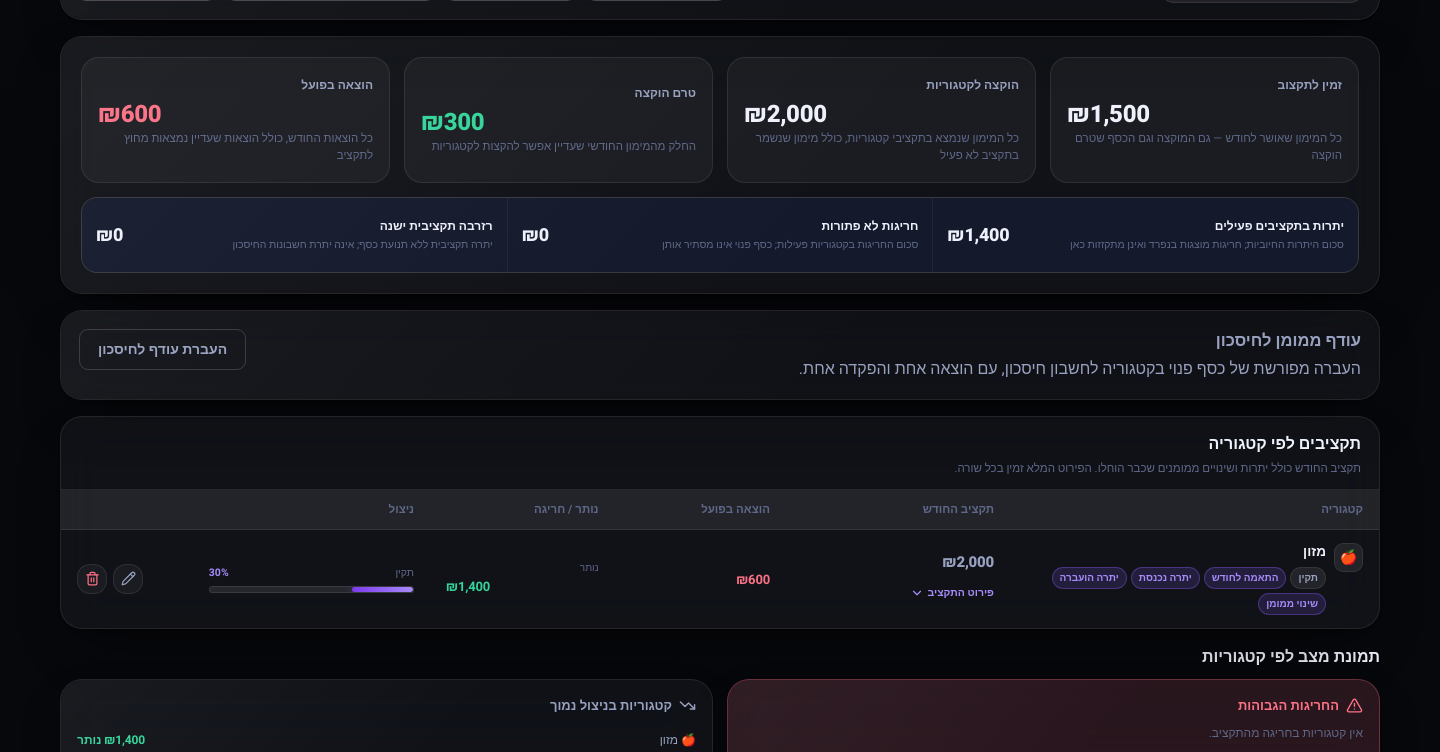
Scenario: canonical funded monthly read › reconciles expanded composition without adding a monthly override on top of its base
Check: the text "הסכום שנקבע בתחילת החודש היה" is not shown
Check: the text "התאמה לחודש" is shown, box [1204, 567, 1286, 589]
Click the button with aria-label "הצגת פירוט התקציב עבור מזון" at [952, 593], box [910, 579, 994, 607]
(page scrolled)
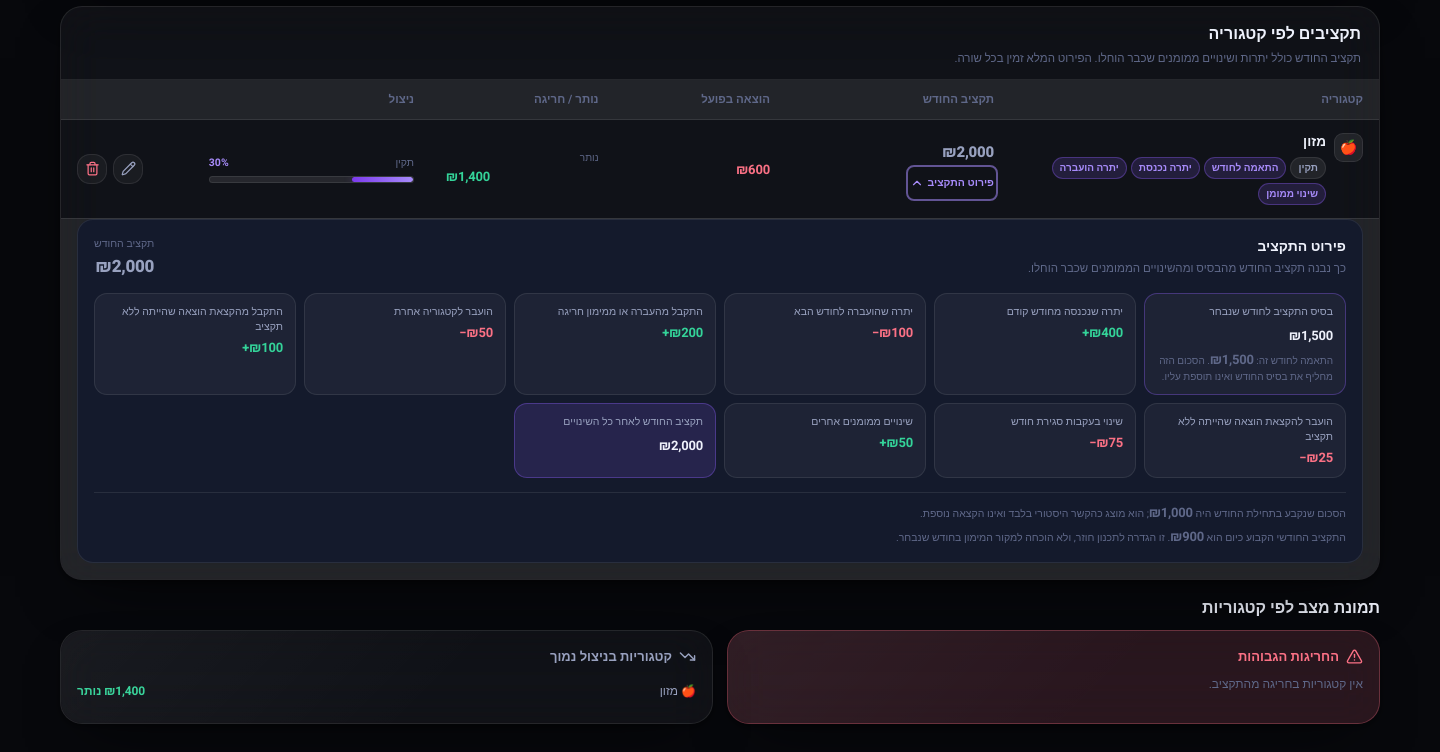
Check: the text "הסכום הזה מחליף את בסיס החודש ואינו תוספת עליו" is shown, box [1159, 354, 1333, 384]
Check: the text "יתרה שנכנסה מחודש קודם" is shown, box [1007, 304, 1123, 319]
Check: the text "יתרה שהועברה לחודש הבא" is shown, box [794, 304, 913, 319]
